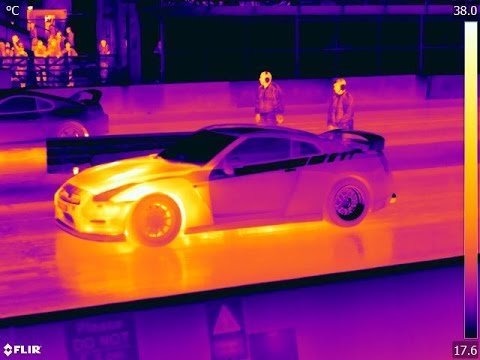car: (43, 120, 397, 262), (1, 72, 114, 168)
person: (251, 70, 288, 129), (321, 75, 358, 134), (90, 34, 116, 84), (57, 37, 83, 87), (43, 34, 69, 84), (28, 34, 54, 84), (11, 36, 37, 86), (3, 28, 29, 78)
